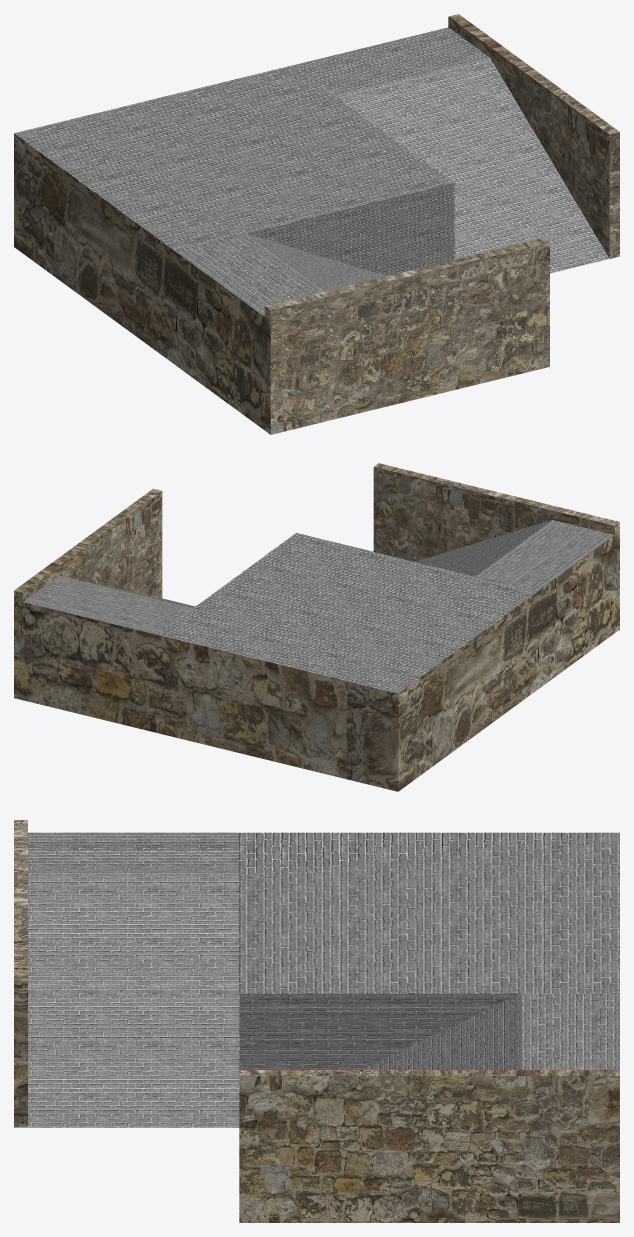
The model's file is RampCorner.fbx.
The picture shows the model from 3 angles, top to bottom: view 1: azimuth 30°, elevation 25°; view 2: azimuth 150°, elevation 25°; view 3: azimuth 270°, elevation 25°; orthographic projection. The views are drawn at different scales.
Parts seen in each view (by area): view 1: RampCorner; view 2: RampCorner; view 3: RampCorner.
Boxes of the visible parts, x1,y1,x2,y2 form: RampCorner: (14, 14, 619, 434); RampCorner: (14, 463, 619, 791); RampCorner: (14, 820, 619, 1222).
Bounding box in the file's own units: 2150 × 575 × 2150.
